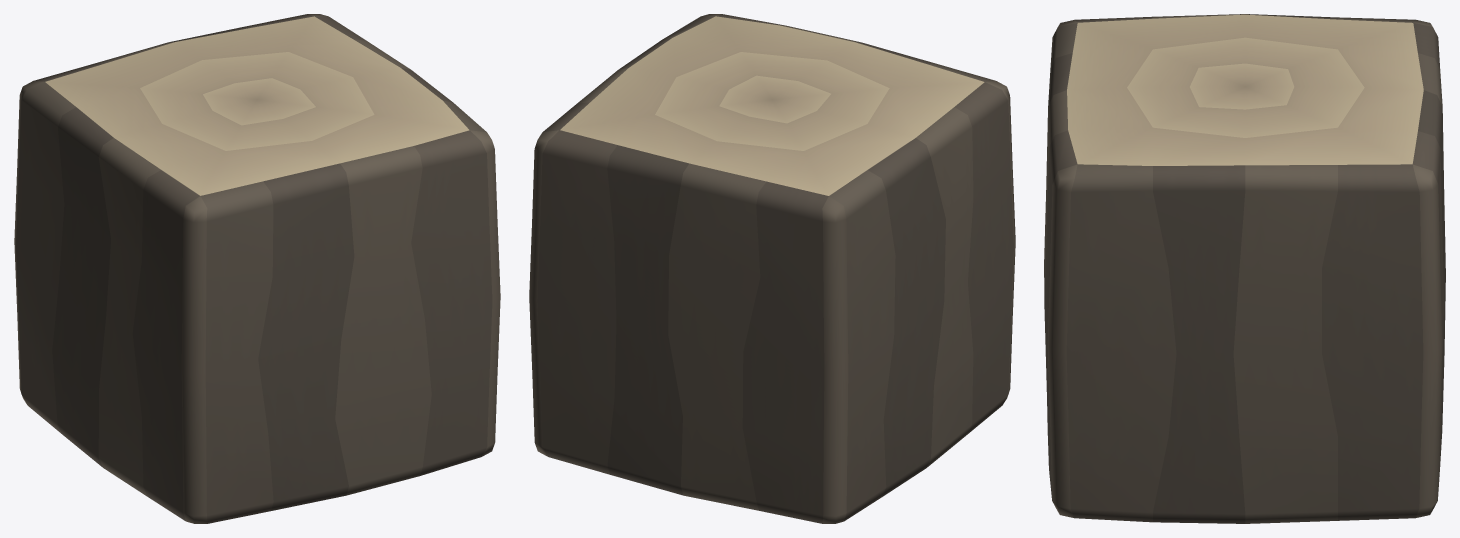
Rendered from DryWood_Log1.fbx.
3 views of the same model, side by side, from view 1: azimuth 30°, elevation 25°; view 2: azimuth 150°, elevation 25°; view 3: azimuth 270°, elevation 25° (orthographic). The views are drawn at different scales.
Visible parts, largest first — view 1: DryWood_Log1_LOD0; view 2: DryWood_Log1_LOD0; view 3: DryWood_Log1_LOD0.
Part boxes in pixels (<box>): DryWood_Log1_LOD0: <box>14,14,500,523</box>; DryWood_Log1_LOD0: <box>529,14,1015,523</box>; DryWood_Log1_LOD0: <box>1044,14,1445,523</box>.
Size of what is drawn, in the model's own units: 1.09 by 1.09 by 1.09.
